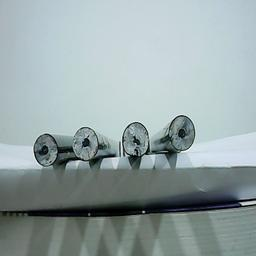pen: (167, 116, 197, 150), (120, 122, 150, 156), (31, 132, 58, 165), (73, 127, 98, 160)
